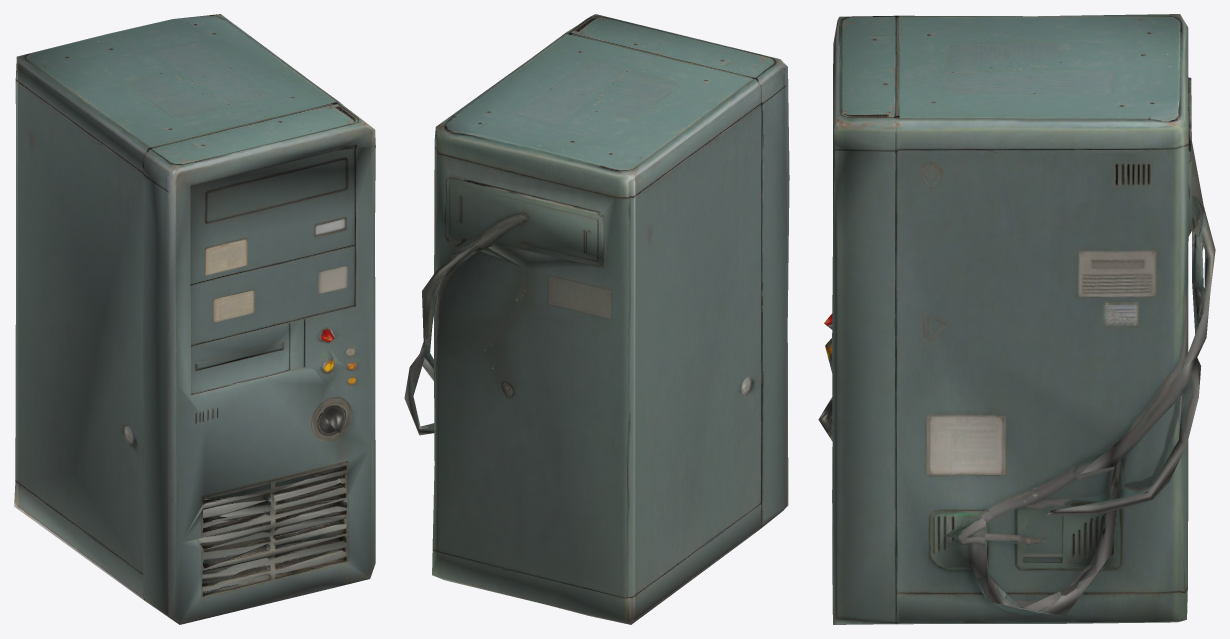
Rendered from Old_School_Tower_0408235737_texture.glb.
3 views of the same model, side by side, from view 1: azimuth 30°, elevation 25°; view 2: azimuth 150°, elevation 25°; view 3: azimuth 270°, elevation 25° (orthographic). The views are drawn at different scales.
Visible parts, largest first — view 1: Mesh1; view 2: Mesh1; view 3: Mesh1.
Boxes of the visible parts, x1,y1,x2,y2 form: Mesh1: (14, 14, 375, 624); Mesh1: (404, 14, 789, 624); Mesh1: (818, 14, 1215, 624).
Bounding box in the file's own units: 1.06 × 2 × 1.42.
Materials: 1 (1 with a texture image).
